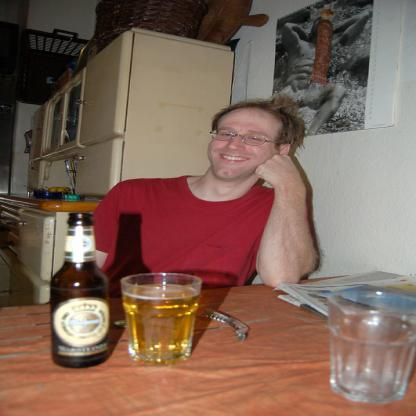drinking: (50, 212, 110, 368), (121, 273, 202, 365)
